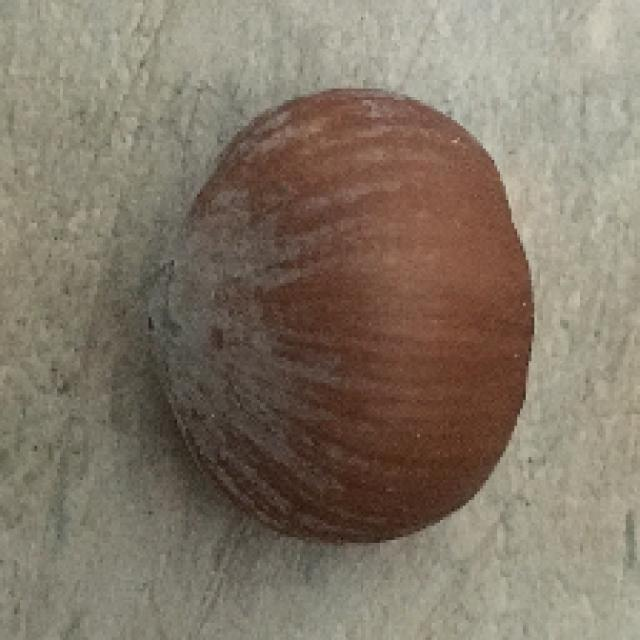qualityHazelnut: (141, 88, 535, 547)
